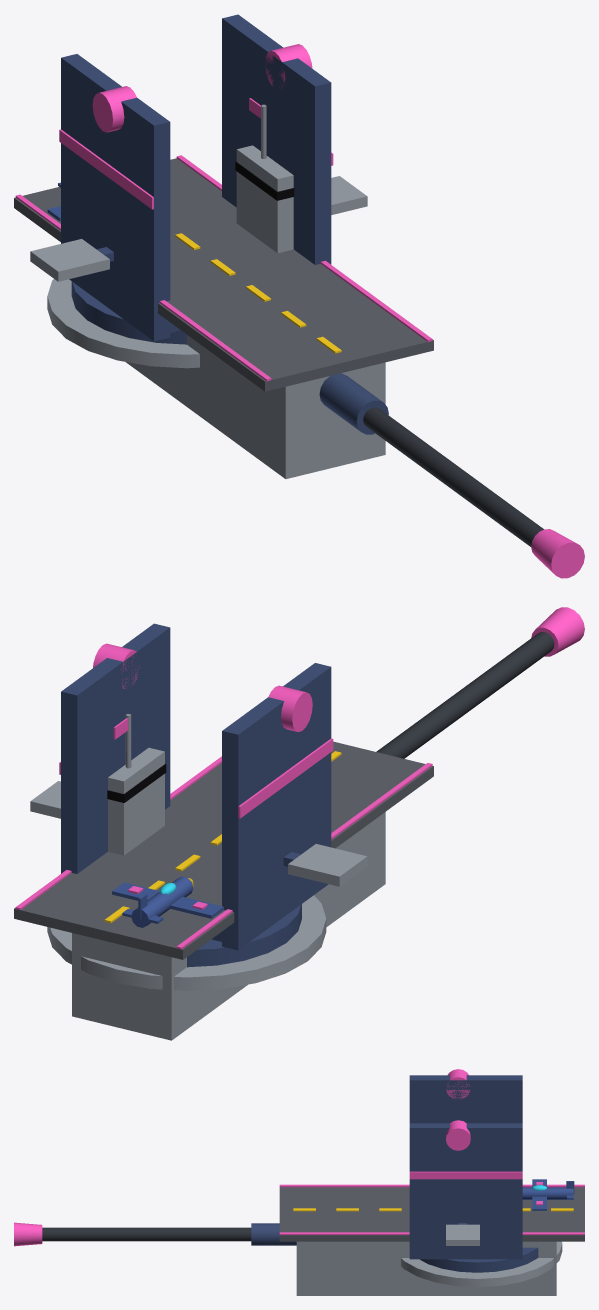
Rendered from hangar.obj.
3 views of the same model, one above another, from view 1: azimuth 30°, elevation 25°; view 2: azimuth 150°, elevation 25°; view 3: azimuth 270°, elevation 25° (orthographic). The views are drawn at different scales.
Visible parts, largest first — view 1: turret, stand, barrel; view 2: stand, turret, barrel; view 3: stand, turret, barrel.
Boxes of the visible parts, <box> form: turret: <box>14,98,433,478</box>; stand: <box>30,14,367,368</box>; barrel: <box>319,373,584,578</box>; stand: <box>30,623,367,990</box>; turret: <box>14,714,433,1040</box>; barrel: <box>376,607,584,758</box>; stand: <box>401,1069,562,1287</box>; turret: <box>279,1179,584,1295</box>; barrel: <box>14,1222,296,1246</box>.
Size of the model in its own units: 1.92 by 1.78 by 5.05.
